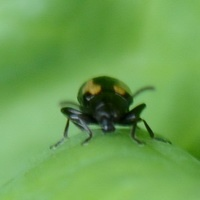insect: (50, 76, 170, 148)
